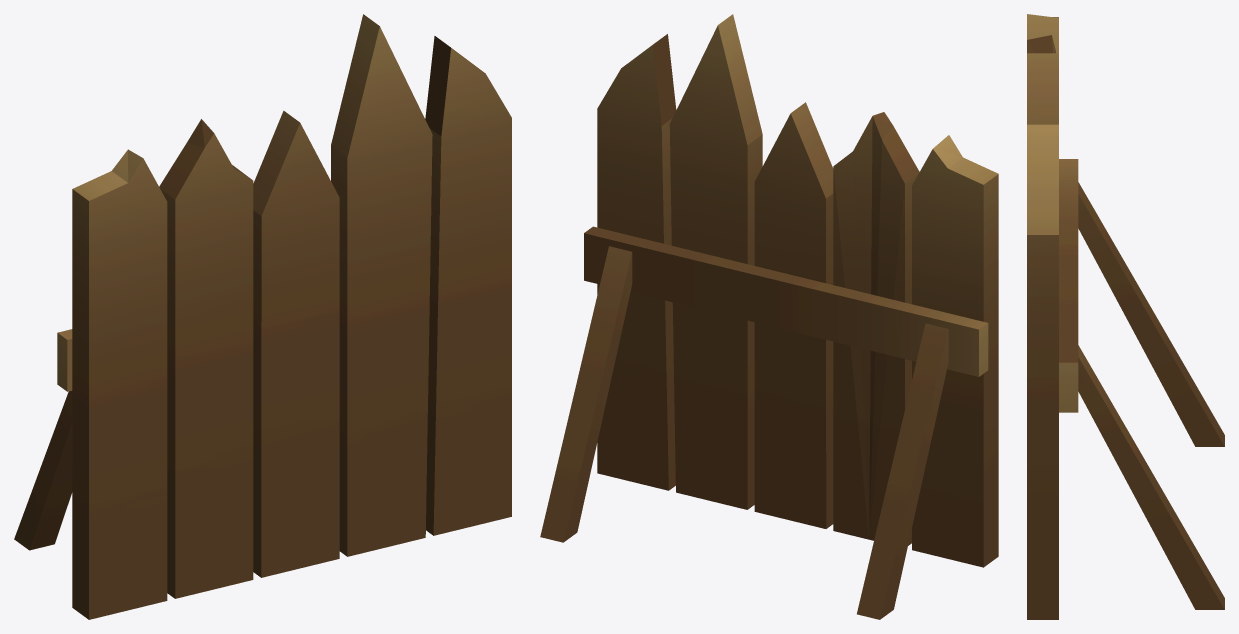
The model's file is pack04_fences_09.fbx.
3 views of the same model, side by side, from view 1: azimuth 30°, elevation 25°; view 2: azimuth 150°, elevation 25°; view 3: azimuth 270°, elevation 25° (orthographic). The views are drawn at different scales.
Parts seen in each view (by area): view 1: Medium_Fence_02; view 2: Medium_Fence_02; view 3: Medium_Fence_02.
Part boxes in pixels (x1,y1,x2,y2): Medium_Fence_02: (14,14,511,619); Medium_Fence_02: (540,14,998,619); Medium_Fence_02: (1027,14,1224,619).
Bounding box in the file's own units: 36.41 × 42.15 × 14.95.
Materials: 1 (1 with a texture image).
